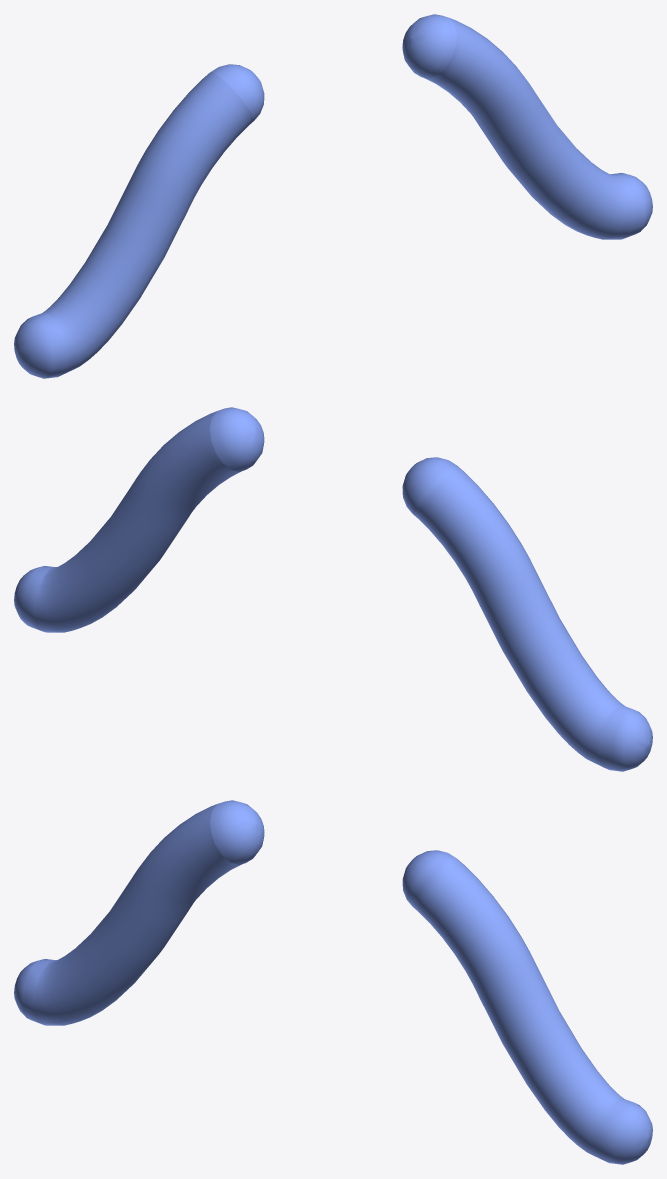
File: Hands3.glb
The picture shows the model from 3 angles, top to bottom: view 1: azimuth 30°, elevation 25°; view 2: azimuth 150°, elevation 25°; view 3: azimuth 330°, elevation 25°; orthographic projection.
Visible parts, largest first — view 1: Hands3; view 2: Hands3; view 3: Hands3.
Part boxes in pixels (box(x1,y1,x2,y2)): Hands3: box(14, 14, 652, 378); Hands3: box(14, 407, 652, 771); Hands3: box(14, 800, 652, 1164).
Size of the model in its own units: 440 by 176 by 40.1.
